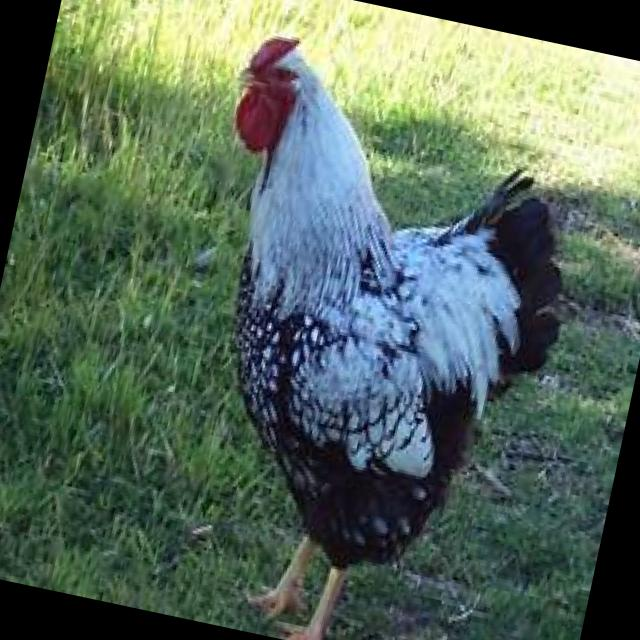chicken: (122, 23, 608, 640)
